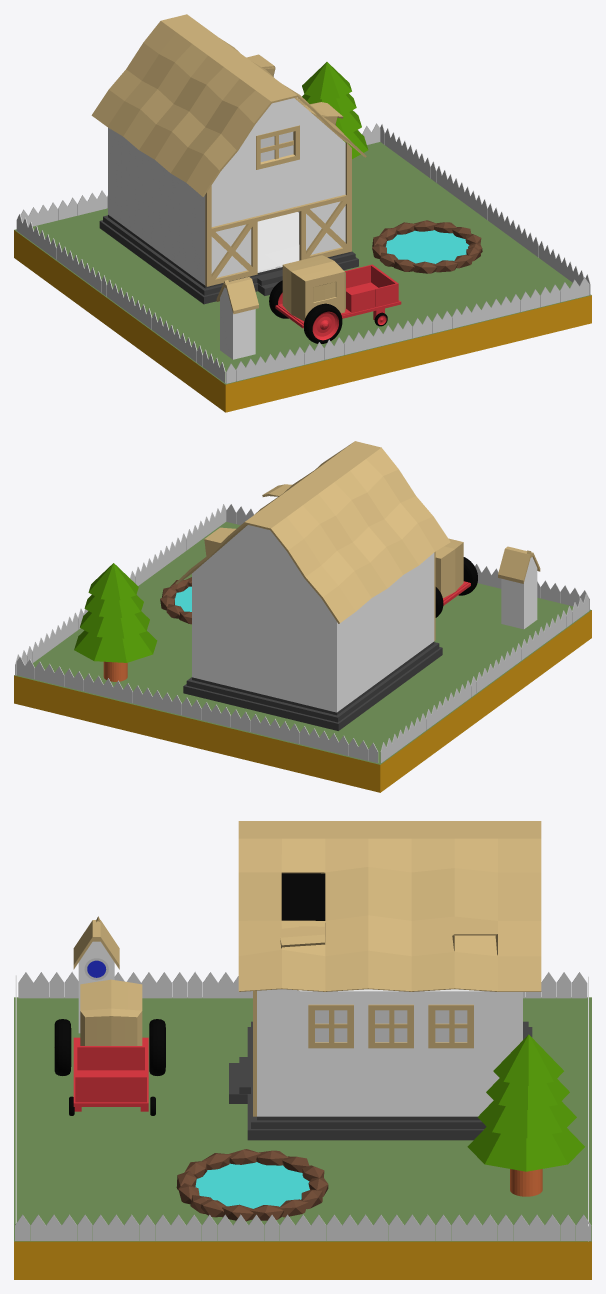
The model's file is firsttry.glb.
3 views of the same model, one above another, from view 1: azimuth 30°, elevation 25°; view 2: azimuth 150°, elevation 25°; view 3: azimuth 270°, elevation 25° (orthographic). The views are drawn at different scales.
Visible parts, largest first — view 1: Plane, house, roof, Plane.001, Plane.005, Cube.002, Plane.002, Plane.003, house.001, pool, Cone, Circle.005 (+4 smaller); view 2: Plane, house, roof, Plane.004, Cone, house.001, Plane.002, Plane.003, Cube.003, Plane.005, Plane.001, Cube.004 (+2 smaller); view 3: Plane, roof, house, Plane.003, Cone, Plane.005, house.001, Plane.002, pool, Circle.005, Cube.004, Circle.001 (+3 smaller).
Boxes of the visible parts, left/top/right/bottom form: Plane: left=14, top=142, right=591, bottom=412; house: left=108, top=98, right=345, bottom=285; roof: left=91, top=14, right=366, bottom=196; Plane.001: left=226, top=277, right=589, bottom=383; Plane.005: left=275, top=255, right=401, bottom=328; Cube.002: left=205, top=142, right=351, bottom=286; Plane.002: left=16, top=214, right=225, bottom=383; Plane.003: left=380, top=123, right=590, bottom=295; house.001: left=99, top=215, right=358, bottom=304; pool: left=372, top=220, right=482, bottom=273; Cone: left=302, top=62, right=368, bottom=158; Circle.005: left=386, top=230, right=469, bottom=263; Plane: left=14, top=522, right=591, bottom=792; house: left=192, top=525, right=434, bottom=712; roof: left=175, top=441, right=450, bottom=623; Plane.004: left=16, top=656, right=378, bottom=763; Cone: left=74, top=563, right=157, bottom=662; house.001: left=183, top=641, right=442, bottom=730; Plane.002: left=380, top=593, right=589, bottom=762; Plane.003: left=15, top=504, right=226, bottom=675; Cube.003: left=501, top=557, right=537, bottom=629; Plane.005: left=435, top=538, right=470, bottom=605; Plane.001: left=226, top=504, right=589, bottom=610; Cube.004: left=498, top=546, right=540, bottom=583; Plane: left=14, top=997, right=591, bottom=1279; roof: left=238, top=821, right=541, bottom=991; house: left=257, top=873, right=522, bottom=1116; Plane.003: left=15, top=1214, right=591, bottom=1240; Cone: left=467, top=1034, right=584, bottom=1171; Plane.005: left=73, top=979, right=148, bottom=1111; house.001: left=229, top=1021, right=532, bottom=1140; Plane.002: left=18, top=972, right=587, bottom=998; pool: left=176, top=1149, right=328, bottom=1221; Circle.005: left=195, top=1162, right=309, bottom=1208; Cube.004: left=73, top=916, right=119, bottom=969; Circle.001: left=54, top=1019, right=71, bottom=1075.
Size of the model in its own units: 5.06 by 2.89 by 5.06.
